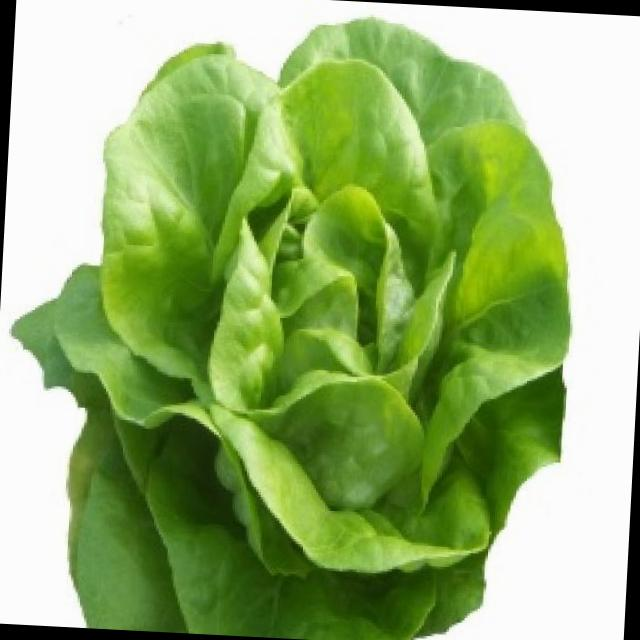Lettuce-Ready-to-Harvest: (16, 20, 569, 640)
